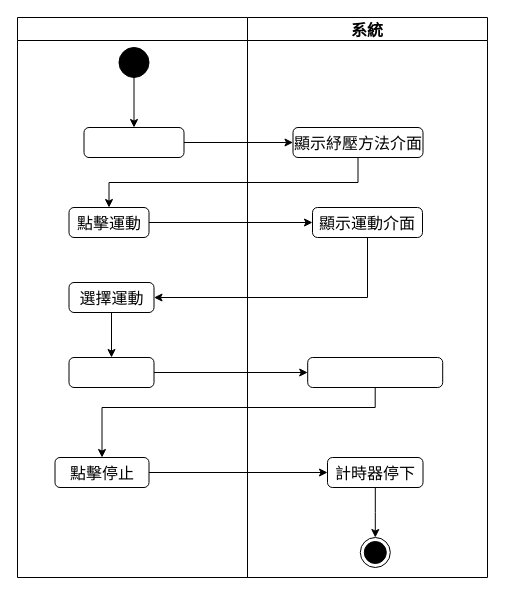
This 505x595 diagram has some shape labels left out. The shapes that lost their labels are listed below. From the top down, each one's box as (x1, y1, x2, y2) in pixels, then its label:
(83, 126, 184, 158): 點擊紓壓方法
(16, 16, 248, 578): 使用者
(68, 356, 154, 388): 點擊開始
(307, 356, 443, 388): 計時器開始計時
